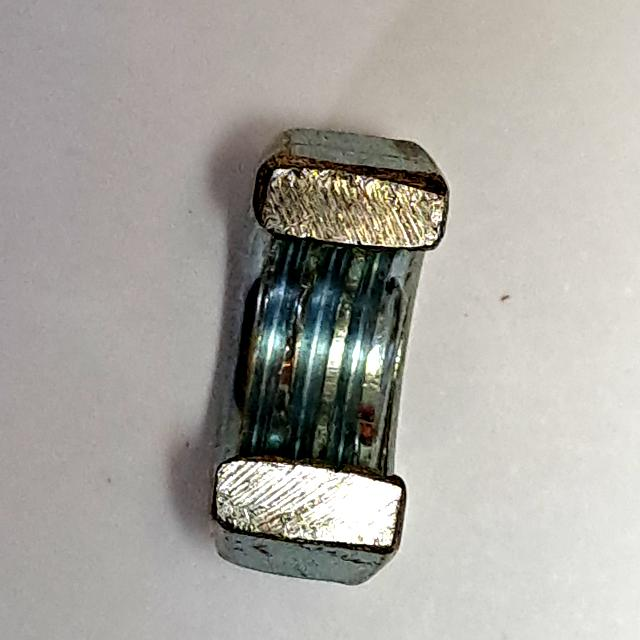Side-Fracture: (196, 113, 463, 595)
